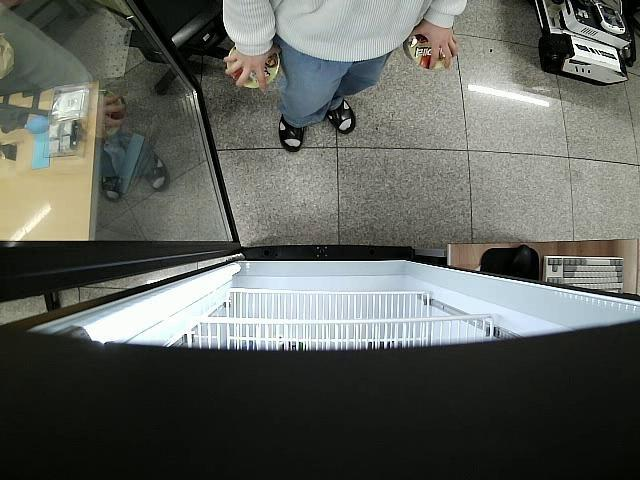03_chapagetti_L: (402, 26, 452, 68), (228, 46, 278, 88)
